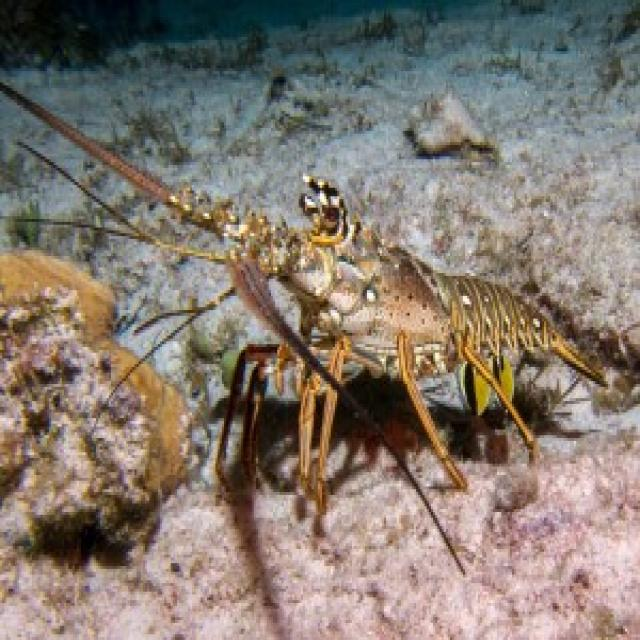lobsters: (157, 150, 640, 553)
